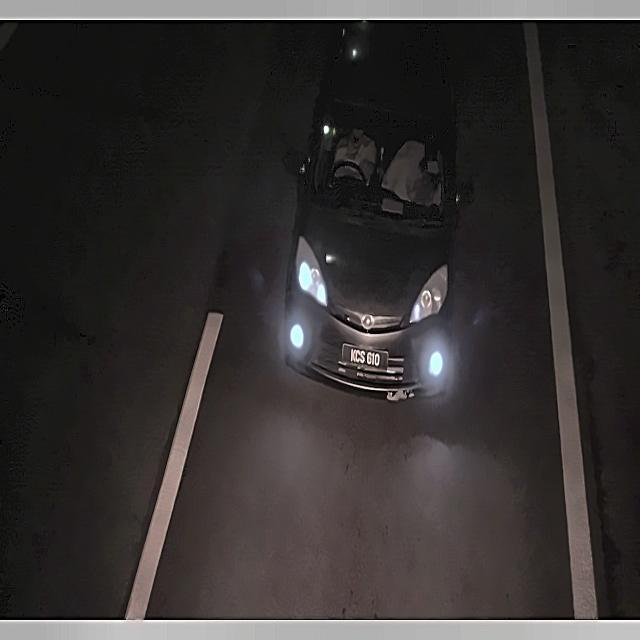car: (338, 337, 394, 378)
